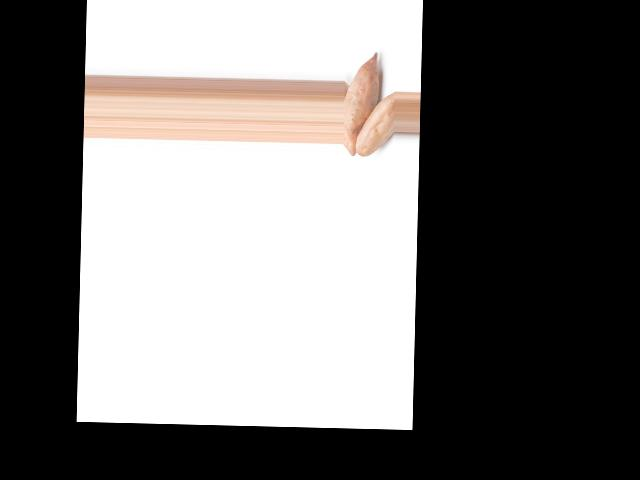sweet_potato: (356, 87, 395, 157)
